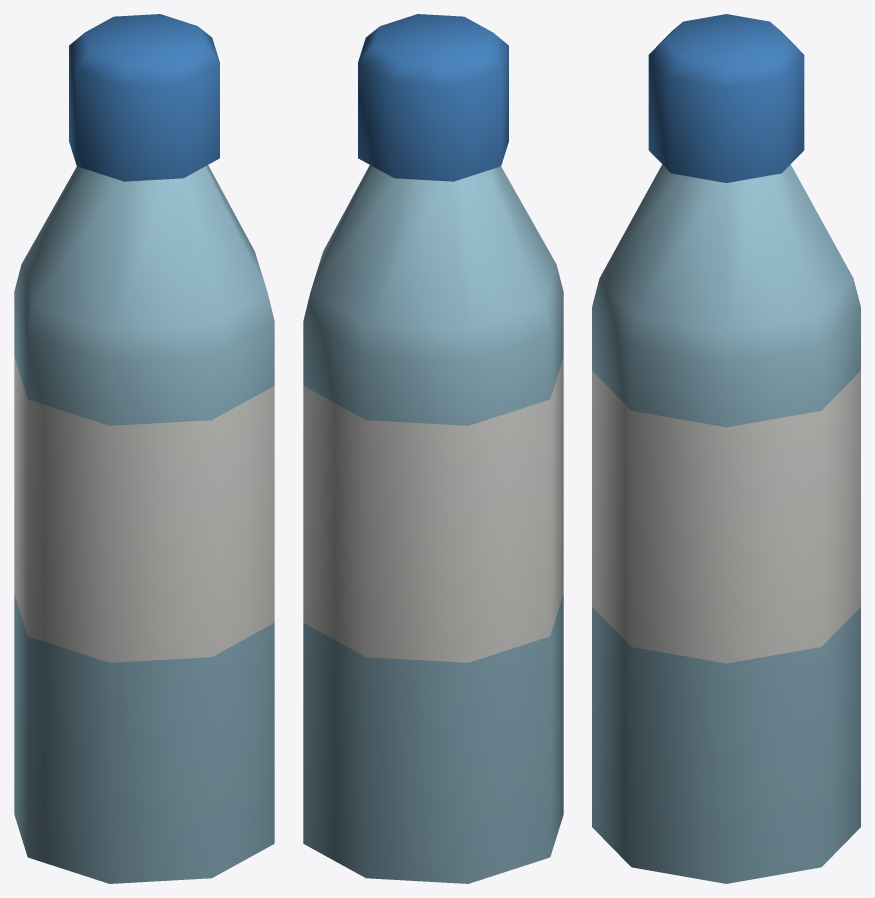
Rendered from Bottle_Water_01.glb.
The picture shows the model from 3 angles, left to right: view 1: azimuth 30°, elevation 25°; view 2: azimuth 150°, elevation 25°; view 3: azimuth 270°, elevation 25°; orthographic projection.
Visible parts, largest first — view 1: SM_Bottle_Water_01; view 2: SM_Bottle_Water_01; view 3: SM_Bottle_Water_01.
Part boxes in pixels (x1,y1,x2,y2): SM_Bottle_Water_01: [14, 14, 274, 883]; SM_Bottle_Water_01: [303, 14, 563, 883]; SM_Bottle_Water_01: [592, 14, 860, 883].
Size of the model in its own units: 0.065 by 0.21 by 0.065.
Materials: 1 (1 with a texture image).
